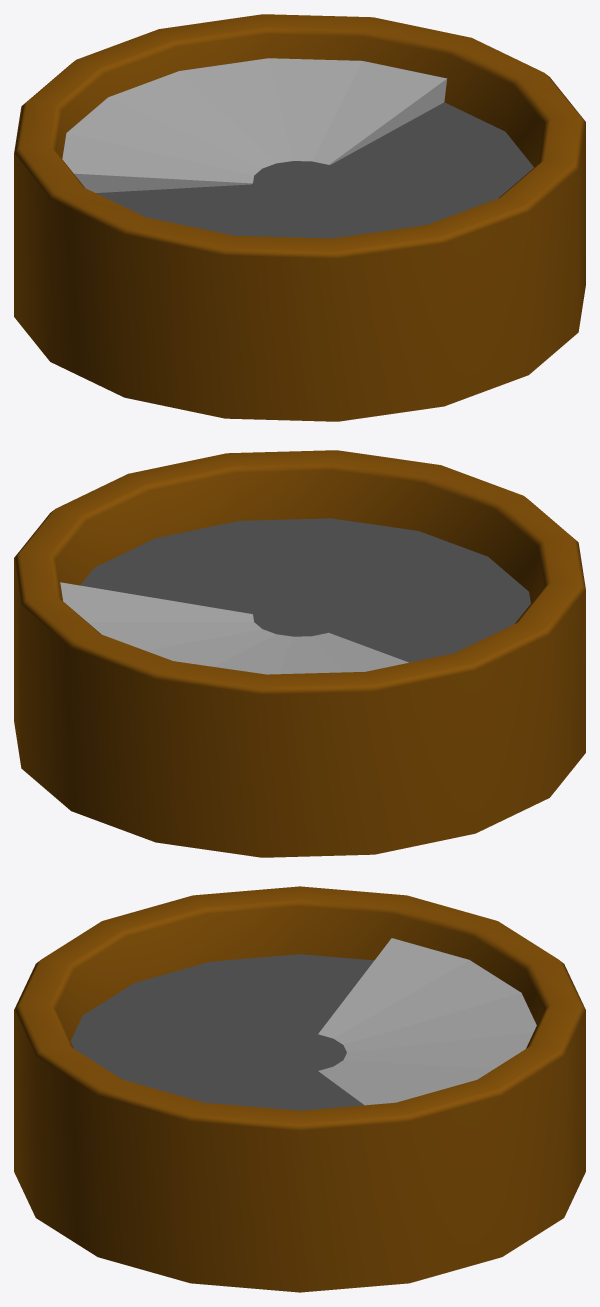
File: Gauge.fbx
3 views of the same model, one above another, from view 1: azimuth 30°, elevation 25°; view 2: azimuth 150°, elevation 25°; view 3: azimuth 270°, elevation 25° (orthographic).
Parts seen in each view (by area): view 1: polySurface4; view 2: polySurface4; view 3: polySurface4.
Boxes of the visible parts, x1,y1,x2,y2 form: polySurface4: (14, 14, 585, 421); polySurface4: (14, 450, 585, 857); polySurface4: (14, 886, 585, 1292).
Size of the model in its own units: 10.98 by 3.54 by 10.98.
